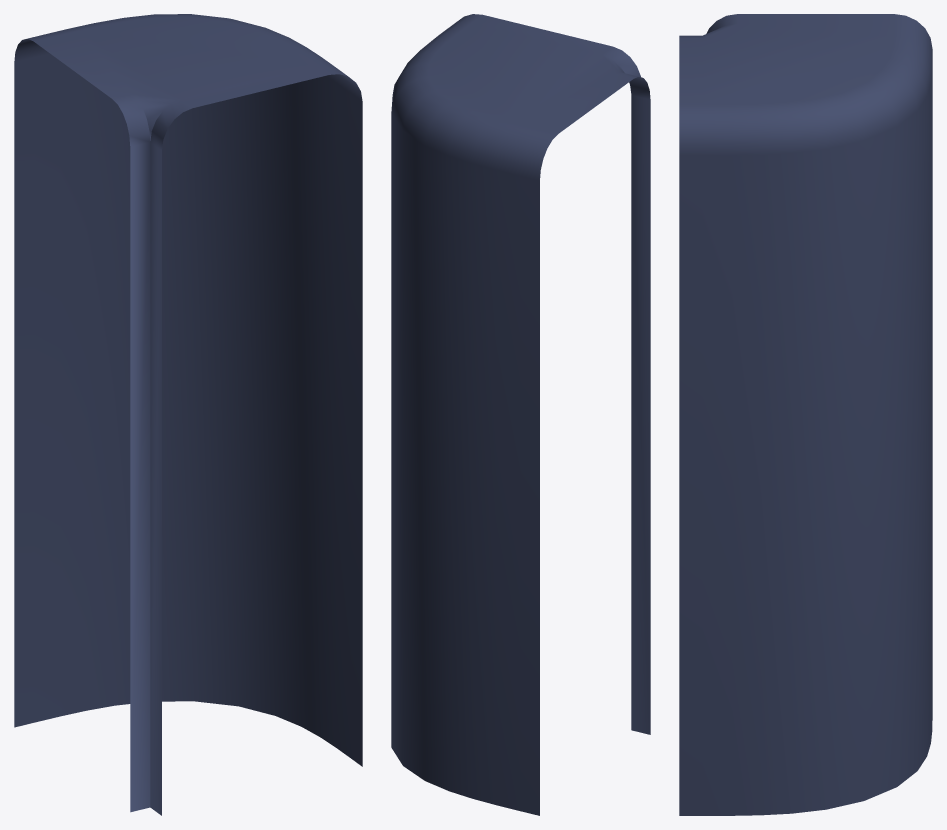
Rendered from SM_Wall_Corner_01.fbx.
3 renders of one model, left to right at view 1: azimuth 30°, elevation 25°; view 2: azimuth 150°, elevation 25°; view 3: azimuth 270°, elevation 25°, orthographic. The views are drawn at different scales.
Visible parts, largest first — view 1: SM_Wall_Corner_01; view 2: SM_Wall_Corner_01; view 3: SM_Wall_Corner_01.
Part boxes in pixels (x1=…): SM_Wall_Corner_01: x1=14, y1=14, x2=362, y2=815; SM_Wall_Corner_01: x1=391, y1=14, x2=650, y2=815; SM_Wall_Corner_01: x1=679, y1=14, x2=932, y2=815.
Bounding box in the file's own units: 33 × 100 × 33.
